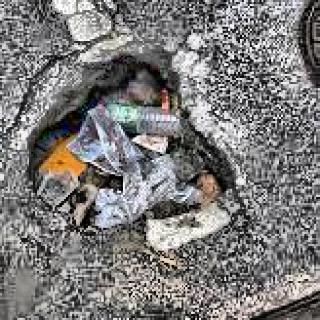pothole: (36, 44, 248, 251)
